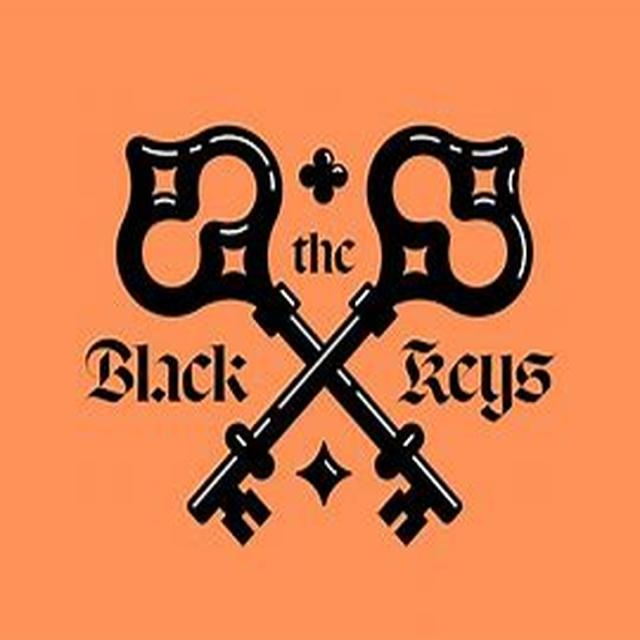key: (253, 96, 576, 569), (101, 127, 322, 565)
